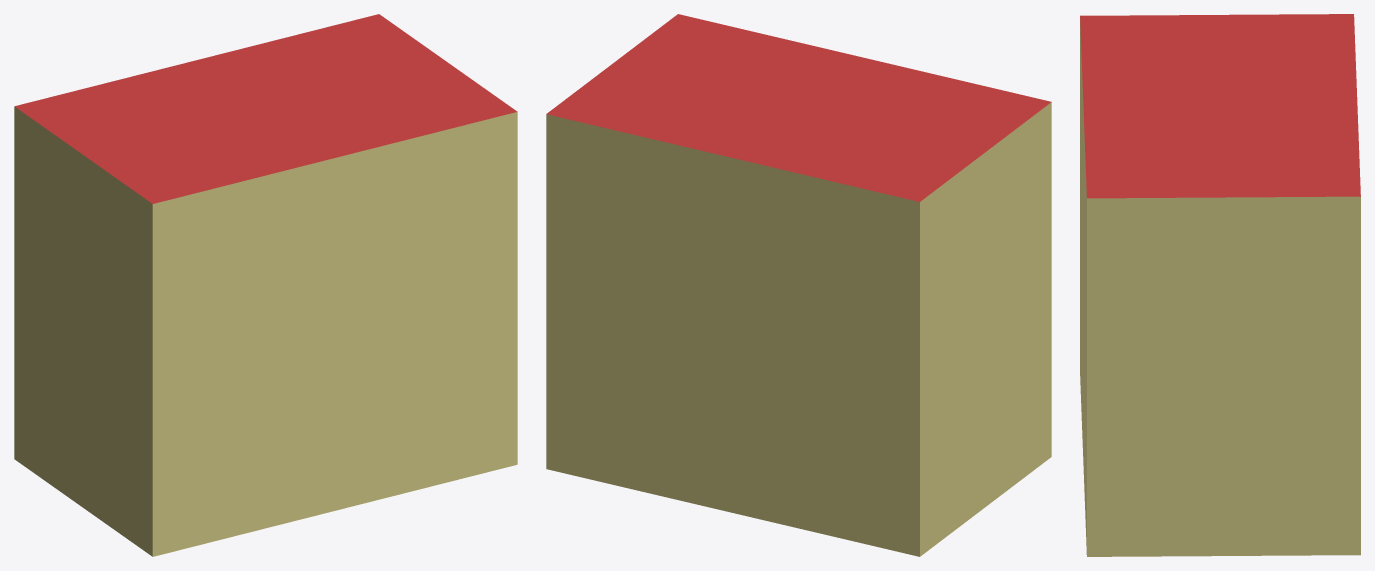
The picture shows the model from 3 angles, left to right: view 1: azimuth 30°, elevation 25°; view 2: azimuth 150°, elevation 25°; view 3: azimuth 270°, elevation 25°; orthographic projection.
Visible parts, largest first — view 1: group_4, group_3; view 2: group_4, group_3; view 3: group_4, group_3.
Part boxes in pixels (left/top/right/bottom): group_4: left=14, top=106, right=517, bottom=556; group_3: left=15, top=14, right=517, bottom=203; group_4: left=546, top=102, right=1051, bottom=556; group_3: left=546, top=14, right=1051, bottom=201; group_4: left=1080, top=18, right=1360, bottom=556; group_3: left=1080, top=14, right=1360, bottom=198.
Bounding box in the file's own units: 13.69 × 8.81 × 12.42.
